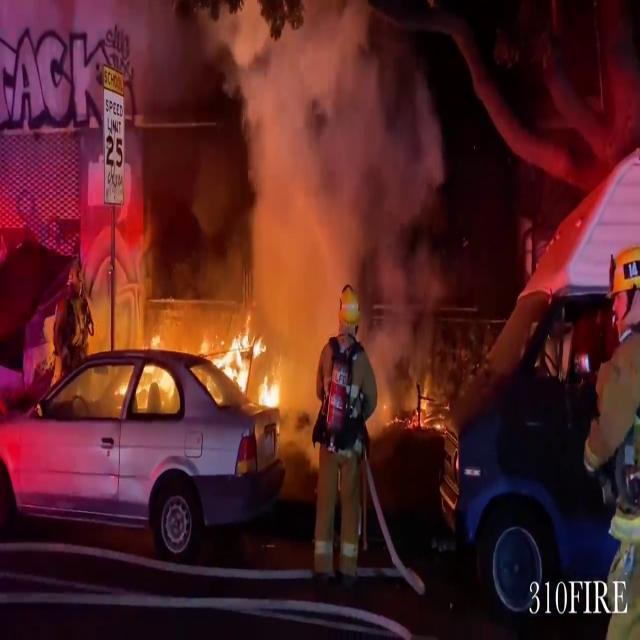Fire: (210, 314, 292, 413)
Smoke: (146, 1, 458, 362)
